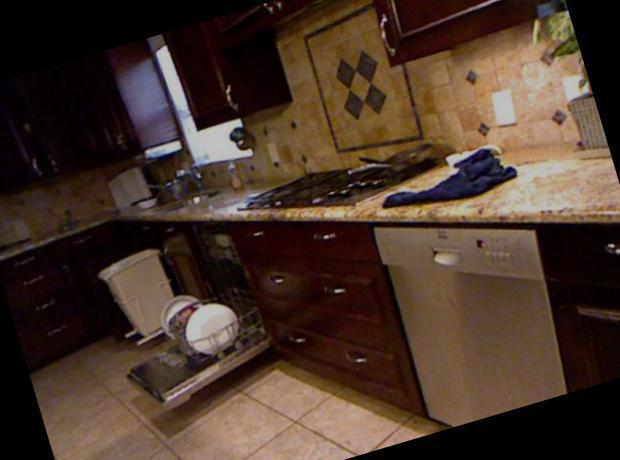Bote de Basura: (94, 235, 192, 352)
Electrodomestico: (91, 222, 287, 440)
Lavaplatos: (135, 147, 233, 222)
